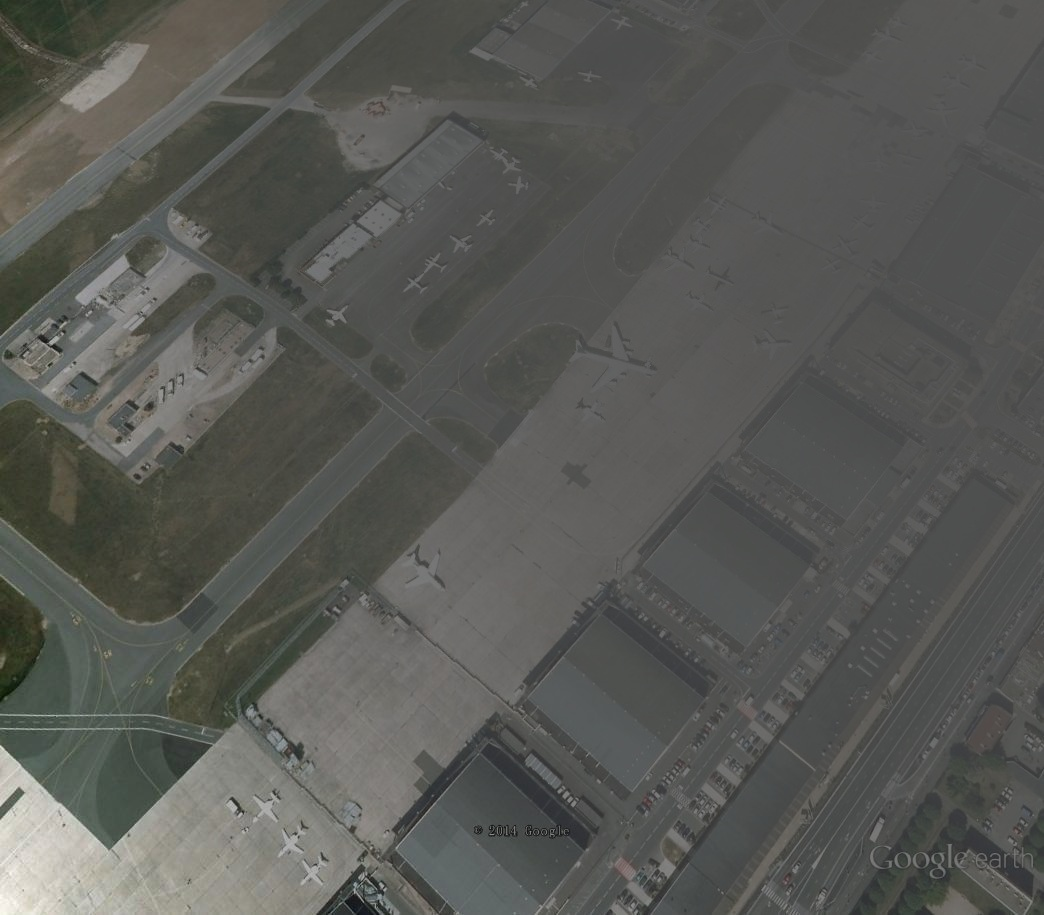aircraft: (565, 319, 661, 396), (396, 549, 450, 600), (294, 850, 334, 894), (750, 328, 795, 363), (247, 789, 286, 828), (277, 819, 312, 862), (924, 93, 964, 130), (573, 397, 615, 427), (658, 244, 699, 274), (757, 298, 793, 331), (700, 262, 736, 294), (748, 210, 786, 238), (954, 52, 994, 78), (679, 291, 720, 316), (829, 231, 862, 261), (864, 153, 900, 180), (939, 69, 975, 96), (696, 193, 733, 219), (867, 25, 904, 51), (858, 190, 892, 217), (846, 213, 879, 240), (399, 271, 432, 298), (322, 303, 354, 330), (571, 66, 606, 90), (504, 174, 534, 202), (856, 46, 892, 69), (897, 120, 931, 144), (882, 10, 916, 33), (820, 250, 846, 280), (420, 252, 451, 276), (681, 234, 715, 255), (486, 141, 514, 166), (448, 234, 477, 258), (688, 216, 720, 237), (892, 148, 924, 169), (498, 154, 525, 178), (610, 12, 639, 34), (474, 207, 499, 232)
